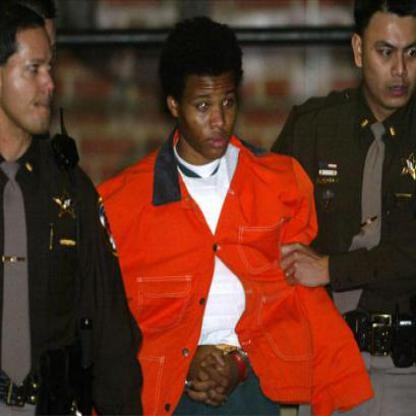face: (1, 17, 65, 140), (178, 45, 242, 162)
